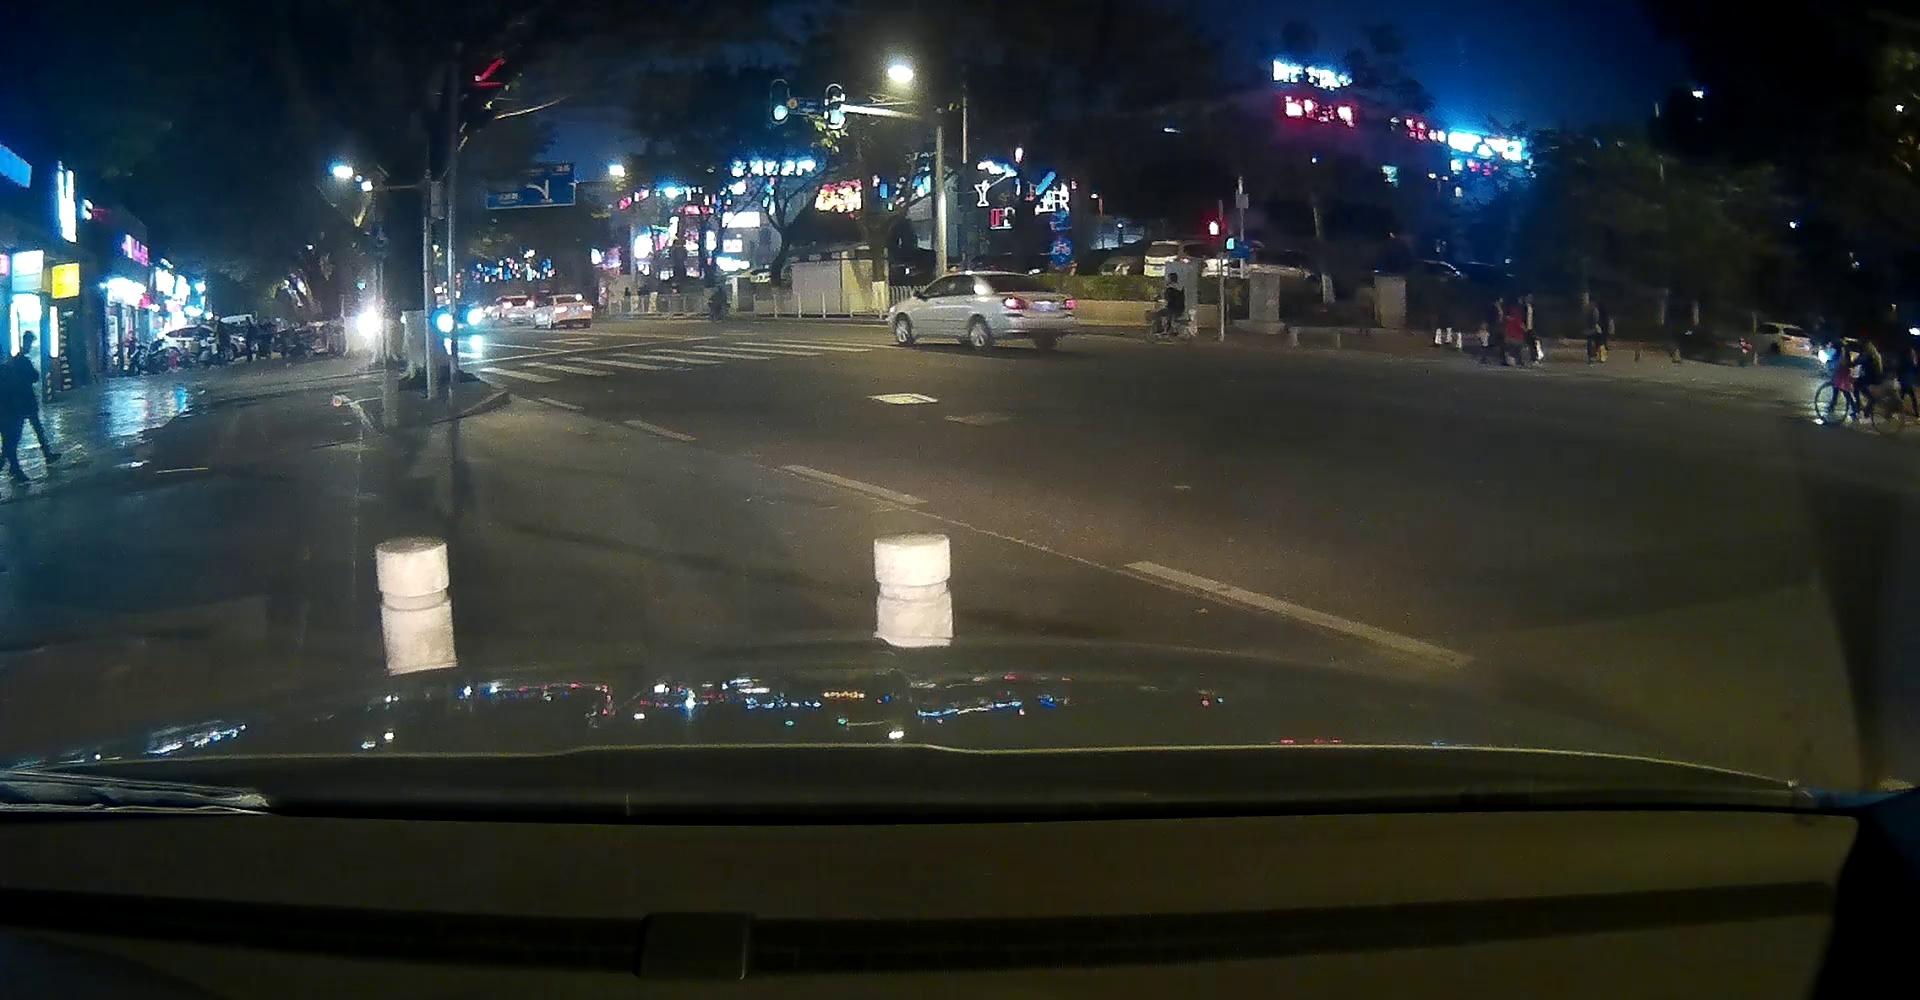L_light: (1001, 296, 1030, 310), (552, 305, 568, 313)
R_light: (1062, 298, 1076, 308), (582, 305, 593, 311)
T_light: (1007, 274, 1020, 278), (566, 296, 575, 299)
night-no: (980, 272, 1077, 353), (552, 294, 593, 329)
